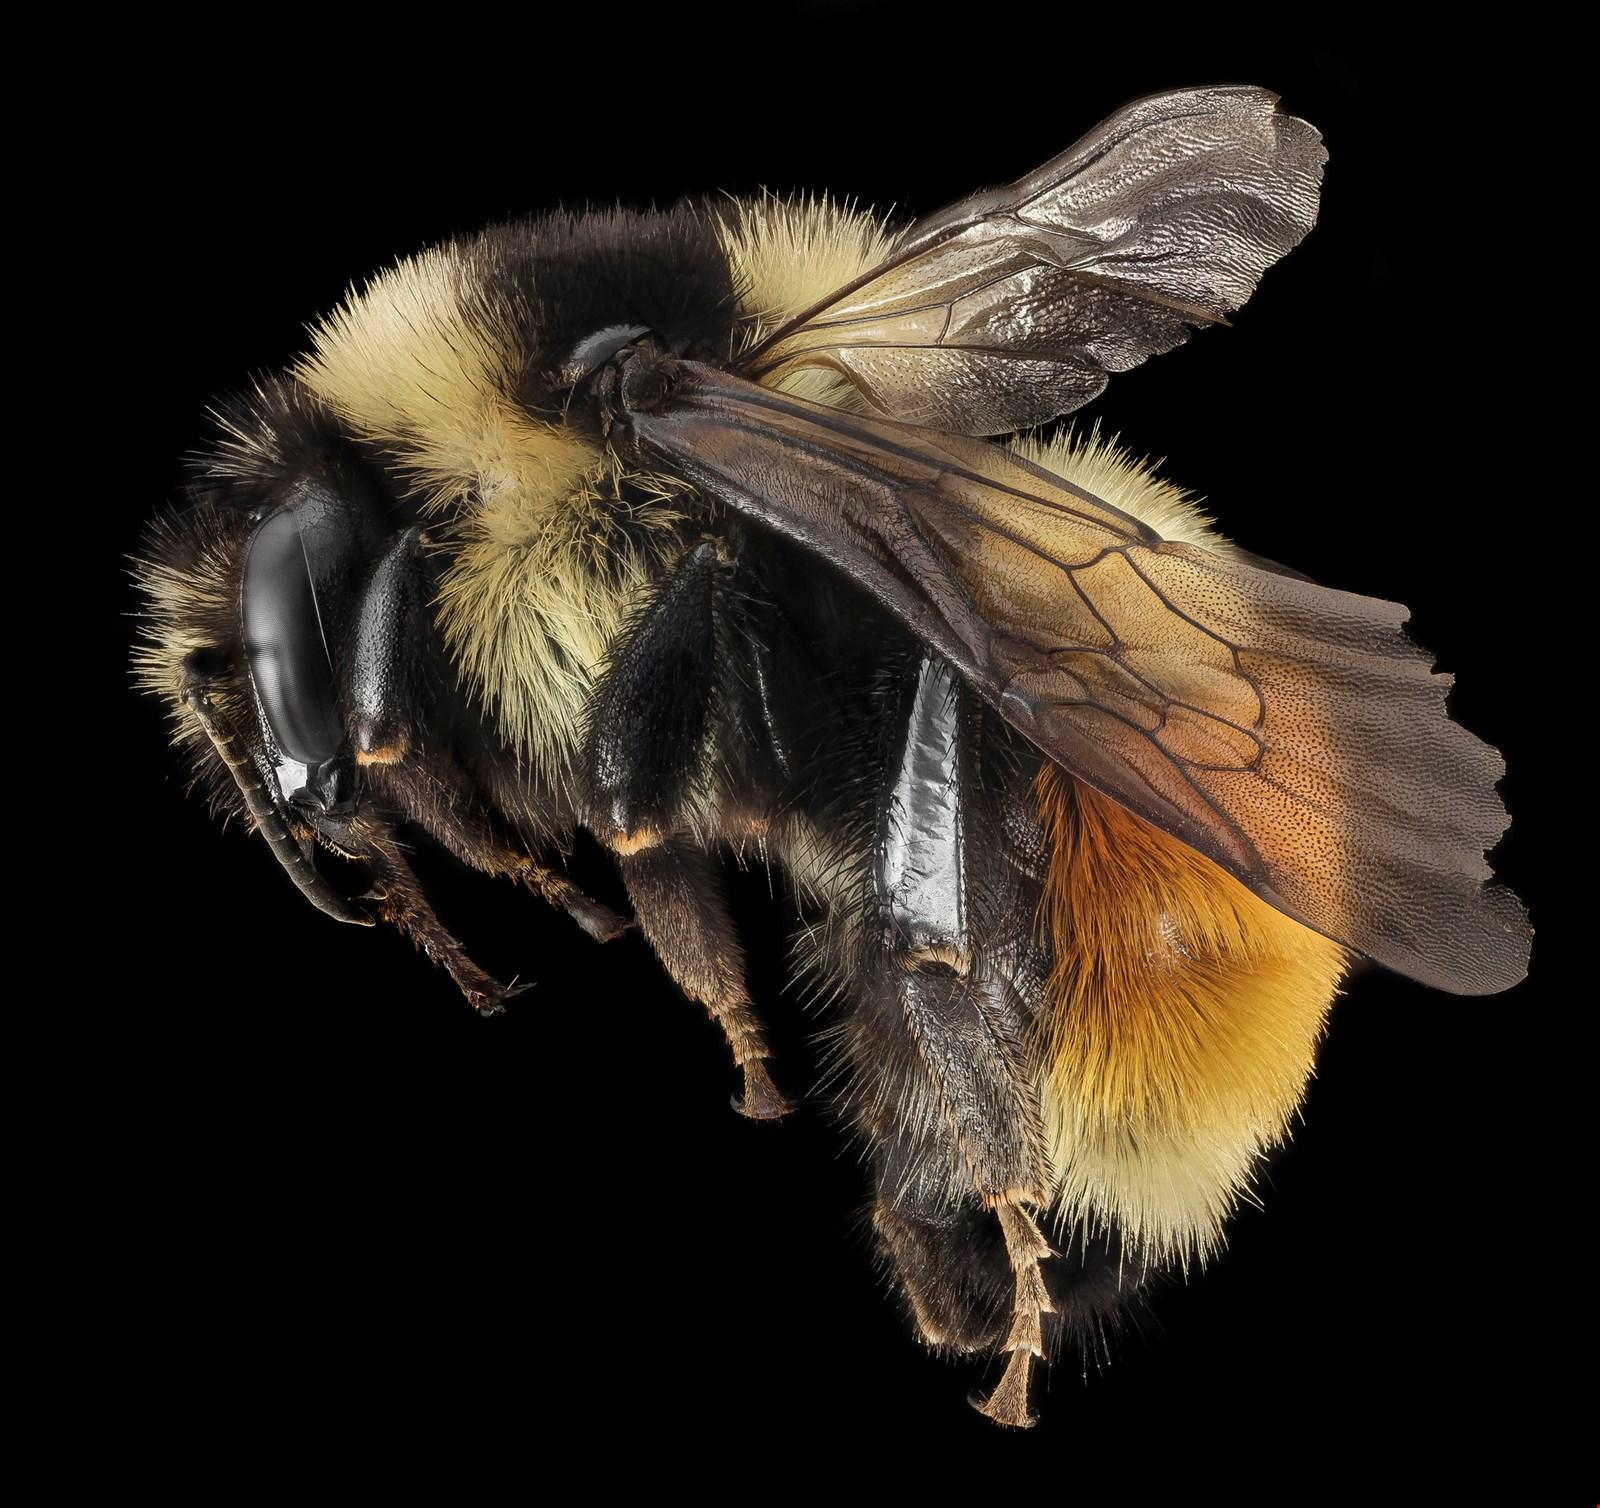Allodapula: (102, 71, 1577, 1467)
